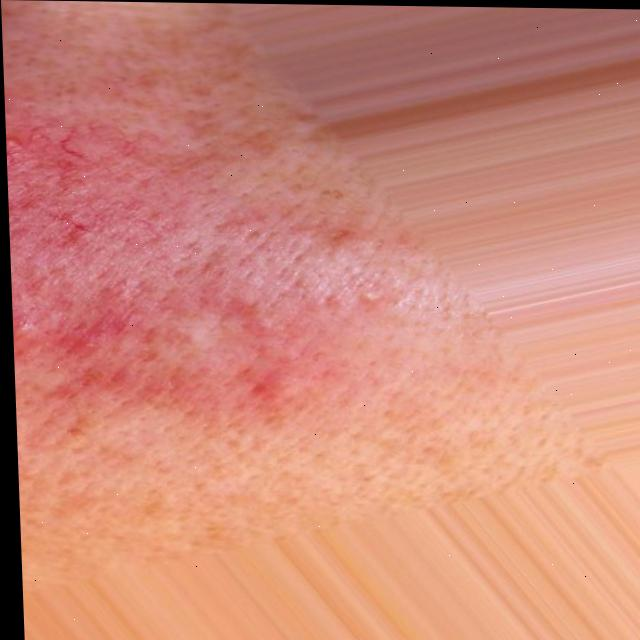Rosacea: (3, 74, 306, 433)
